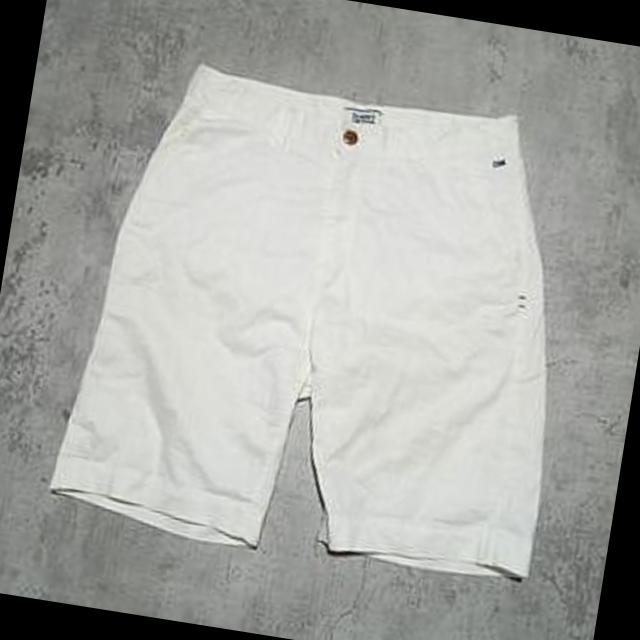SHORT: (35, 33, 632, 608)
